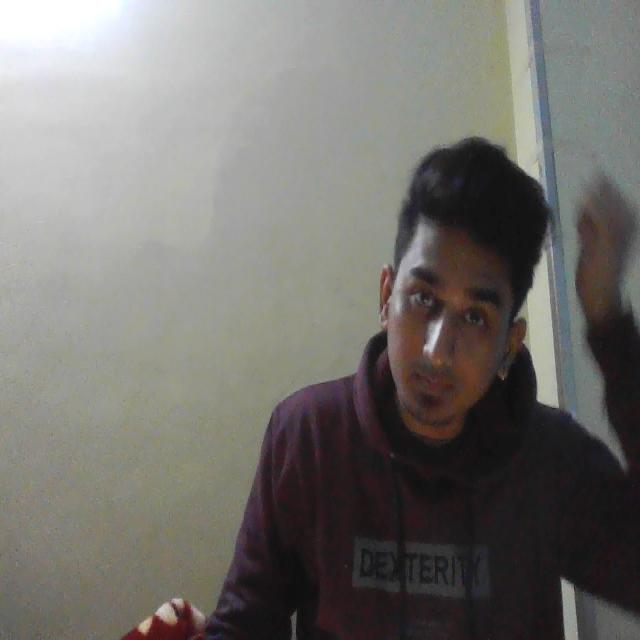real: (378, 165, 530, 452)
